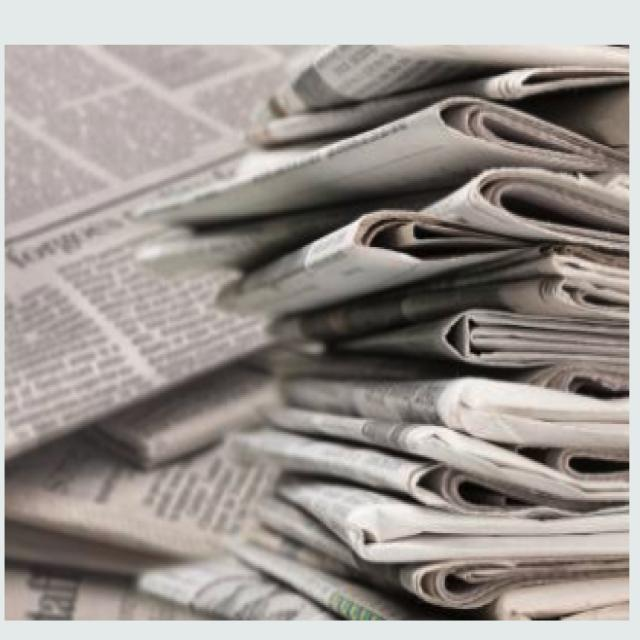Koran: (6, 42, 628, 618)
